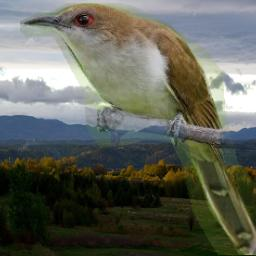Cuckoo: (20, 3, 256, 255)
